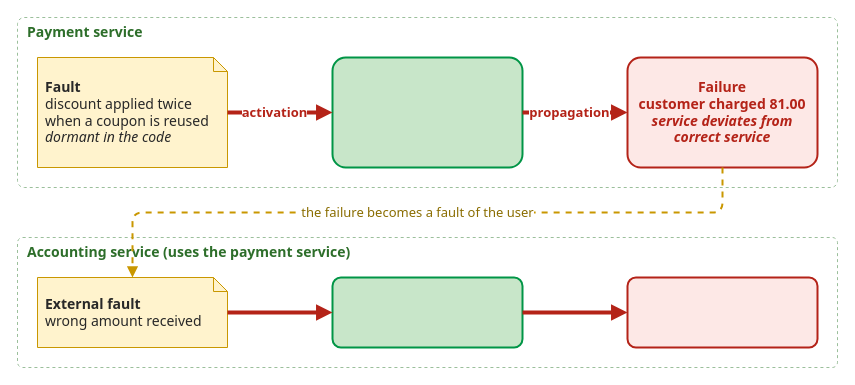
Some shapes in this 855 by 385 pixel diagram are drawn without their labels. Each missing label, with the centre of its shape:
Error basket total 81.00 instead of 90.00 wrong internal state: (427,112)
Error ledger off by 9.00: (427,312)
Failure wrong monthly report: (722,312)
